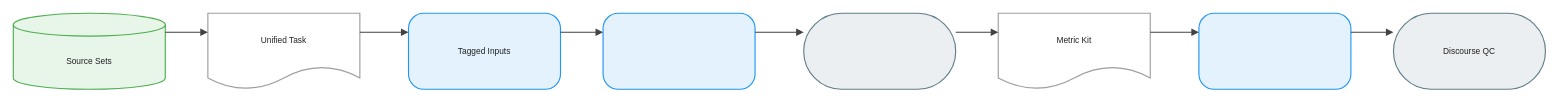
The diagram is 1560 pixels wide and 103 high, and some of its shapes have lost their labels. The shapes that lost their labels are listed below. From the top down, each one's centre as x and y in pixels, then its label:
At (x=678, y=51): "Anchor Format".
At (x=879, y=51): "Baselines".
At (x=1274, y=51): "Transfer Tests".
